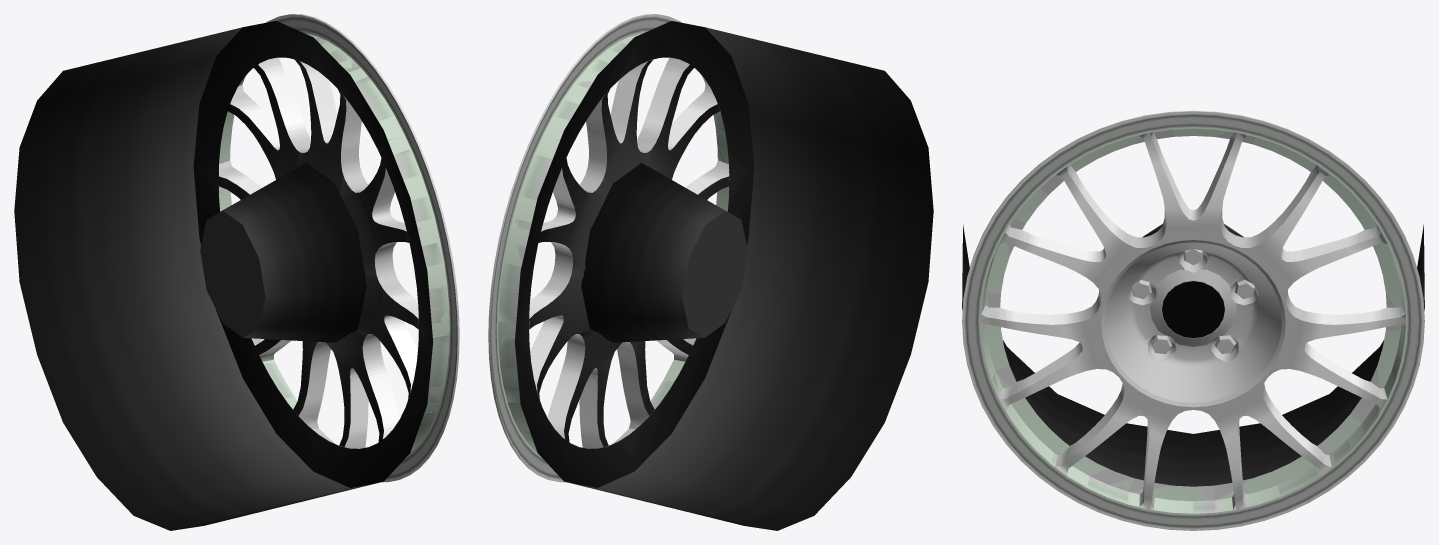
Rendered from wheel14.fbx.
The picture shows the model from 3 angles, left to right: view 1: azimuth 30°, elevation 25°; view 2: azimuth 150°, elevation 25°; view 3: azimuth 270°, elevation 25°; orthographic projection. The views are drawn at different scales.
Visible parts, largest first — view 1: bbs_re_wheel_wheel_inner_rim_, bbs_re_wheel_wheel_rim_, wheel_rim; view 2: bbs_re_wheel_wheel_inner_rim_, bbs_re_wheel_wheel_rim_, wheel_rim; view 3: bbs_re_wheel_wheel_rim_, wheel_rim, bbs_re_wheel_wheel_inner_rim_.
Boxes of the visible parts, x1,y1,x2,y2 form: bbs_re_wheel_wheel_inner_rim_: (14,21,433,530); bbs_re_wheel_wheel_rim_: (219,16,449,449); wheel_rim: (218,14,459,482); bbs_re_wheel_wheel_inner_rim_: (514,21,933,530); bbs_re_wheel_wheel_rim_: (490,18,729,481); wheel_rim: (488,14,729,482); bbs_re_wheel_wheel_rim_: (962,113,1424,530); wheel_rim: (962,110,1424,530); bbs_re_wheel_wheel_inner_rim_: (962,224,1424,486).
Size of the model in its own units: 0.2312 by 0.4533 by 0.4528.
1 material, 1 textured.
